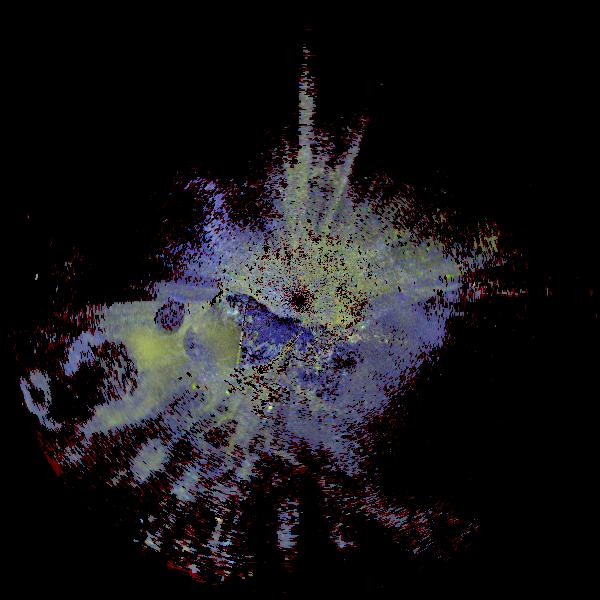roost: (50, 308, 182, 440), (82, 403, 172, 493)
